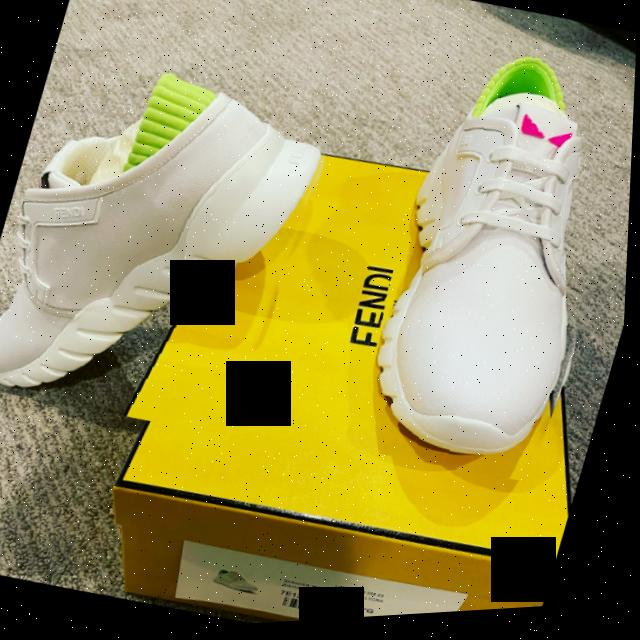shoe: (0, 36, 348, 455), (344, 33, 638, 501)
